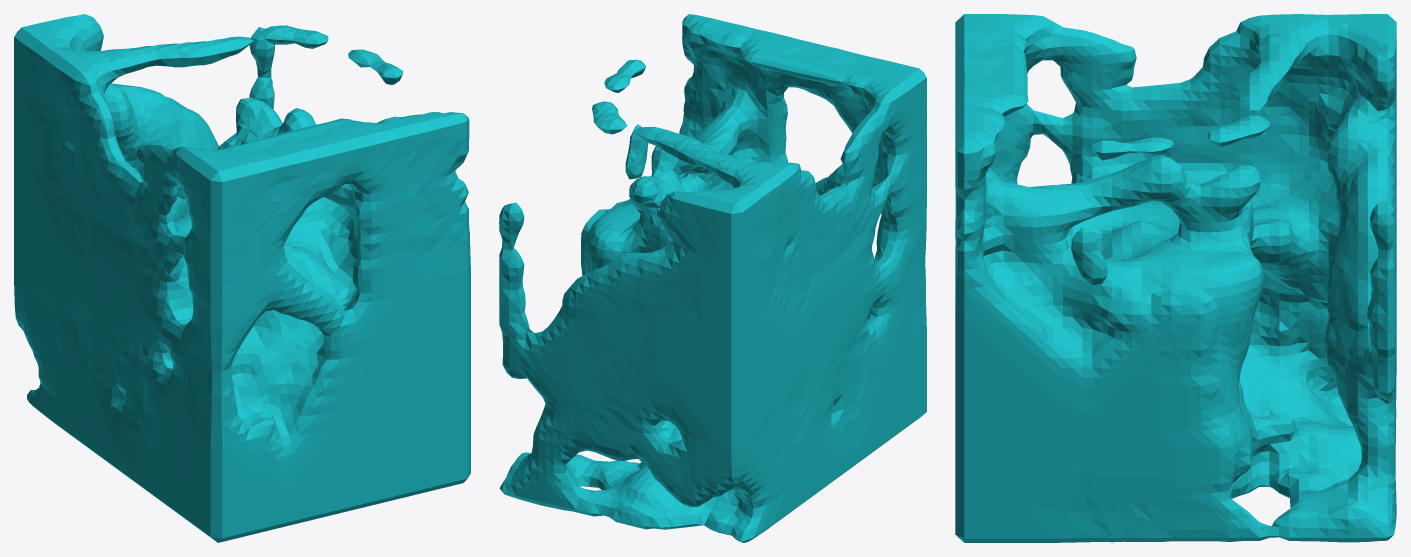
3 renders of one model, left to right at view 1: azimuth 30°, elevation 25°; view 2: azimuth 150°, elevation 25°; view 3: azimuth 270°, elevation 25°, orthographic. The views are drawn at different scales.
Visible parts, largest first — view 1: Liquid_Domain; view 2: Liquid_Domain; view 3: Liquid_Domain.
Part boxes in pixels (x1,y1,x2,y2): Liquid_Domain: [14, 14, 470, 542]; Liquid_Domain: [499, 14, 926, 542]; Liquid_Domain: [955, 14, 1396, 542].
Size of the model in its own units: 79.12 by 108 by 108.
